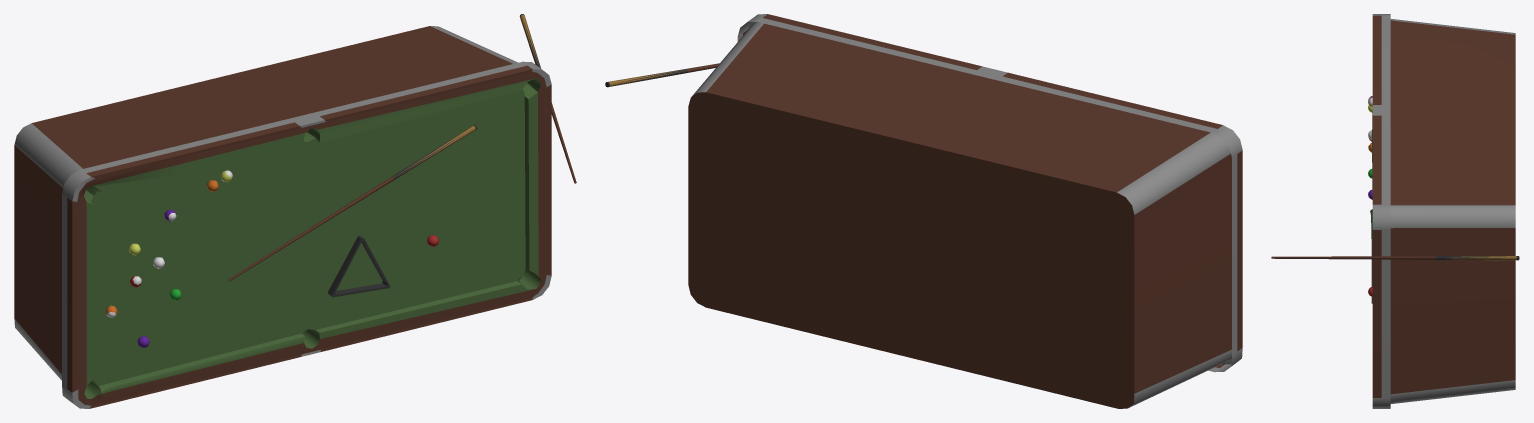
The model's file is poolTable.glb.
3 renders of one model, left to right at view 1: azimuth 30°, elevation 25°; view 2: azimuth 150°, elevation 25°; view 3: azimuth 270°, elevation 25°, orthographic. The views are drawn at different scales.
Visible parts, largest first — view 1: green1, brown, grey, dark, wooden1; view 2: brown, grey; view 3: brown, grey, dark, wooden1.
Boxes of the visible parts, bbox=[...] form: green1: bbox=[84, 78, 541, 398]; brown: bbox=[14, 26, 576, 408]; grey: bbox=[14, 26, 551, 408]; dark: bbox=[327, 14, 540, 297]; wooden1: bbox=[400, 15, 539, 174]; brown: bbox=[686, 14, 1242, 408]; grey: bbox=[691, 14, 1242, 408]; brown: bbox=[1271, 15, 1515, 397]; grey: bbox=[1372, 14, 1515, 408]; dark: bbox=[1371, 242, 1519, 303]; wooden1: bbox=[1446, 256, 1516, 260].
Bounding box in the file's own units: 3.11 × 1.29 × 1.42.
